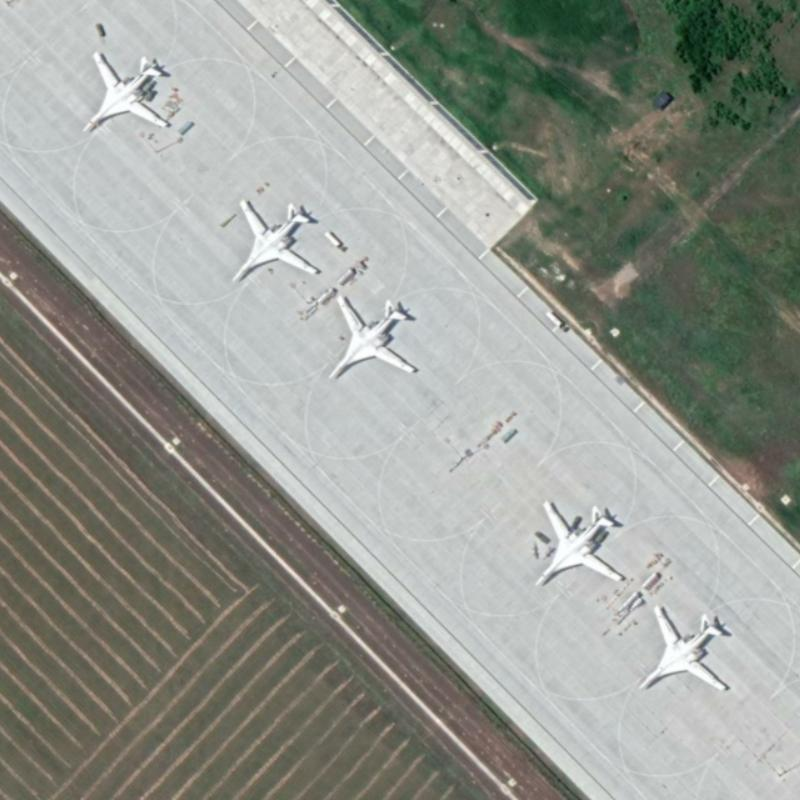A6: (630, 599, 732, 695), (531, 491, 627, 588), (323, 287, 419, 382), (79, 43, 174, 137), (227, 191, 324, 281)
